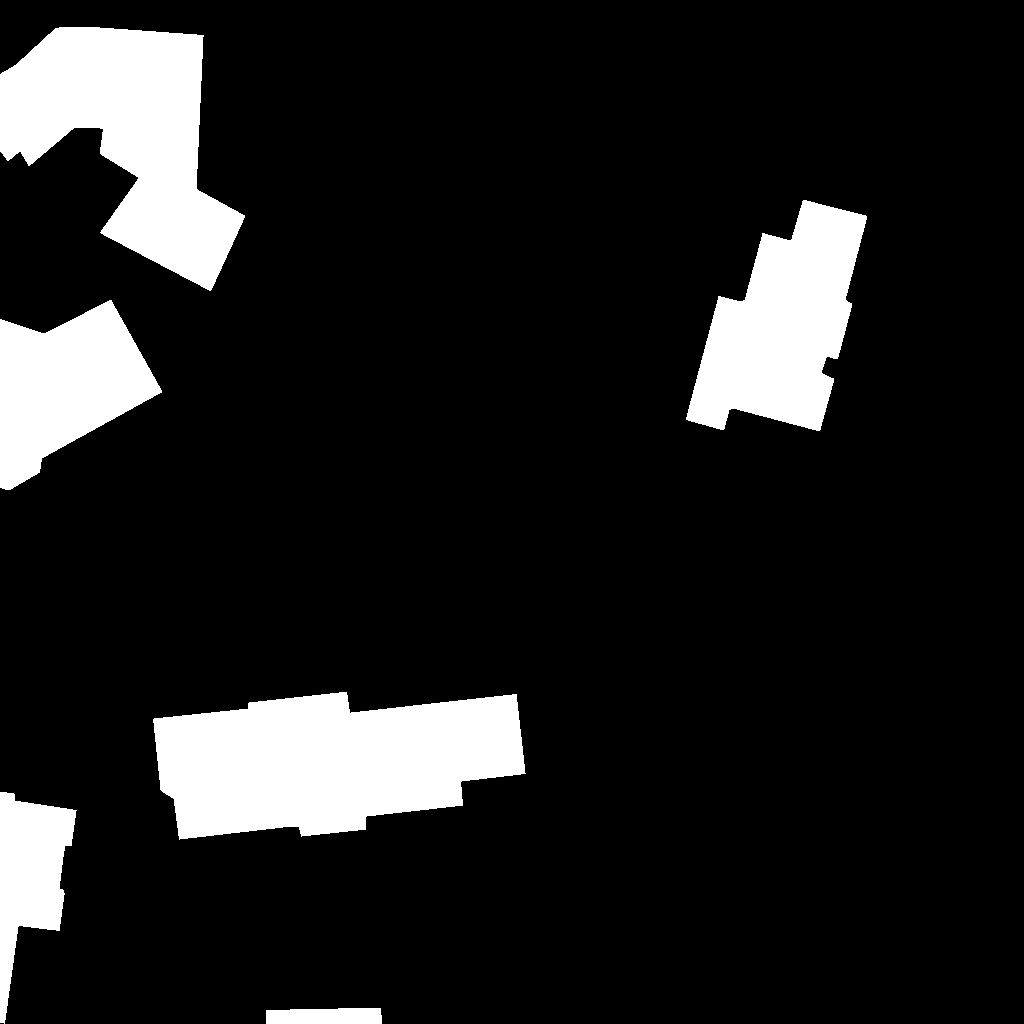building: (0, 27, 246, 292), (153, 692, 526, 840), (686, 200, 868, 432), (0, 300, 163, 491), (0, 792, 77, 1024), (266, 1008, 383, 1024)
